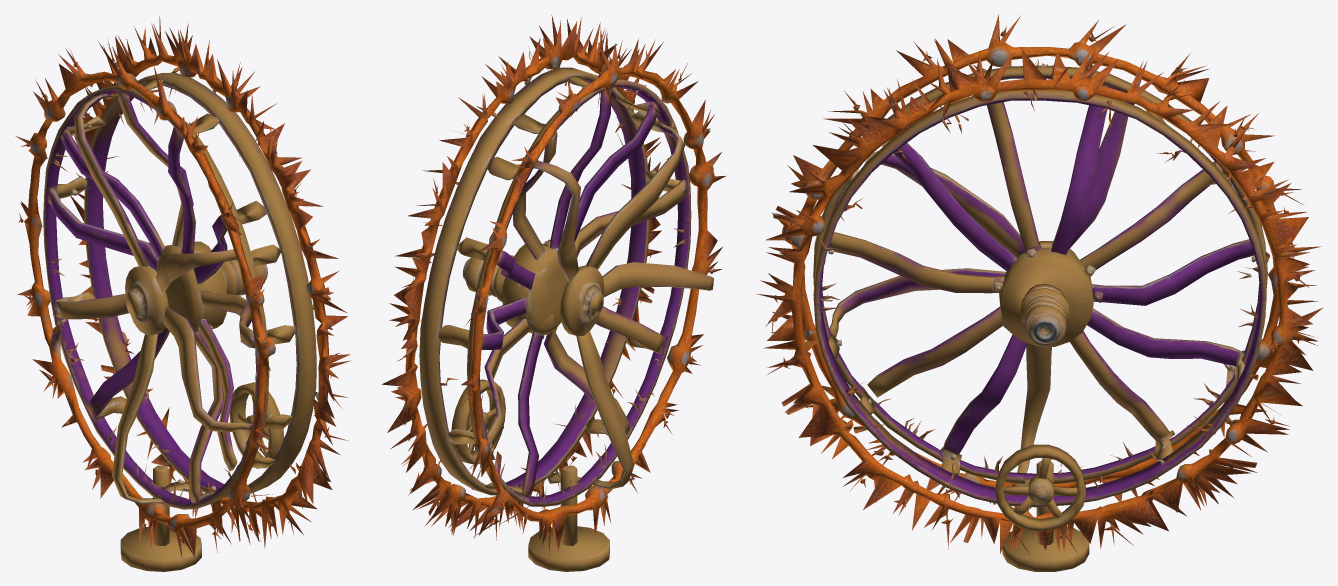
File: r33-wheel.glb
The picture shows the model from 3 angles, left to right: view 1: azimuth 30°, elevation 25°; view 2: azimuth 150°, elevation 25°; view 3: azimuth 270°, elevation 25°; orthographic projection. The views are drawn at different scales.
Parts seen in each view (by area): view 1: tripo_node_dc28f015-4806-4ff3-900d-91707b550264; view 2: tripo_node_dc28f015-4806-4ff3-900d-91707b550264; view 3: tripo_node_dc28f015-4806-4ff3-900d-91707b550264.
Boxes of the visible parts, x1,y1,x2,y2 form: tripo_node_dc28f015-4806-4ff3-900d-91707b550264: (15, 16, 350, 571); tripo_node_dc28f015-4806-4ff3-900d-91707b550264: (381, 15, 726, 571); tripo_node_dc28f015-4806-4ff3-900d-91707b550264: (757, 14, 1323, 571).
Size of the model in its own units: 0.3301 by 0.998 by 0.9707.
1 material, 1 textured.
